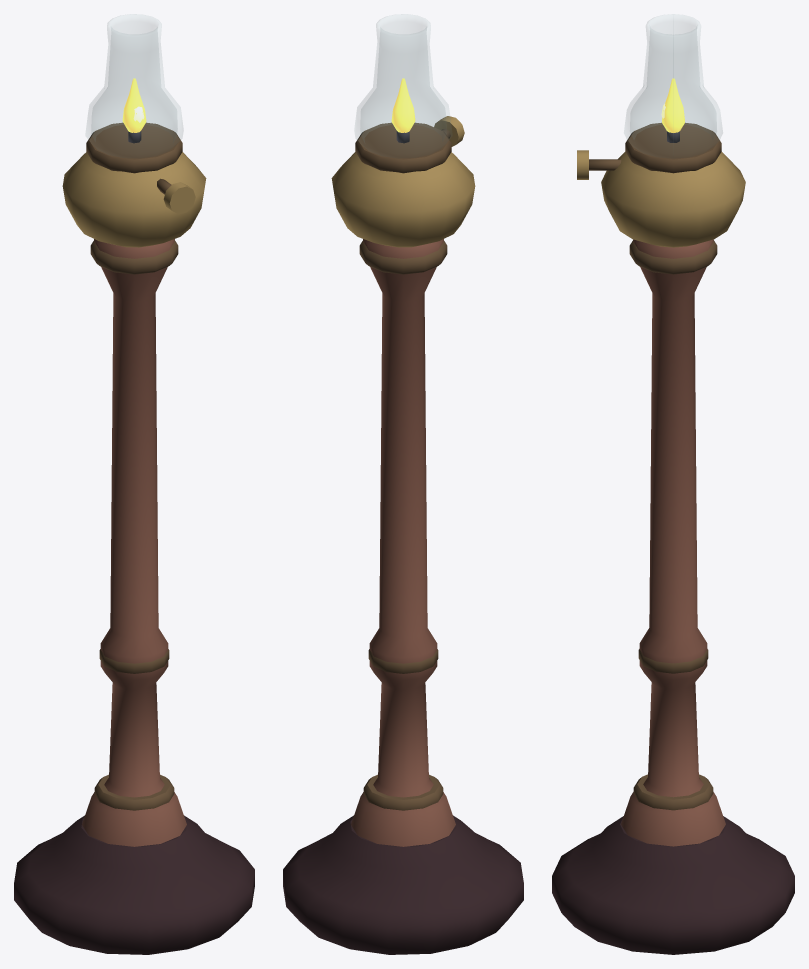
The model's file is oil_lamp.glb.
The picture shows the model from 3 angles, left to right: view 1: azimuth 30°, elevation 25°; view 2: azimuth 150°, elevation 25°; view 3: azimuth 270°, elevation 25°; orthographic projection.
Parts seen in each view (by area): view 1: oil_lamp; view 2: oil_lamp; view 3: oil_lamp.
Boxes of the visible parts, box(x1,y1,x2,y2) form: oil_lamp: box(14, 14, 254, 954); oil_lamp: box(283, 14, 523, 954); oil_lamp: box(552, 14, 794, 954).
Size of the model in its own units: 0.322 by 1.3 by 0.322.
